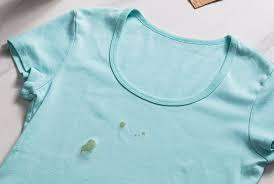lipstick: (78, 139, 97, 159), (117, 115, 127, 129), (131, 131, 149, 137)
